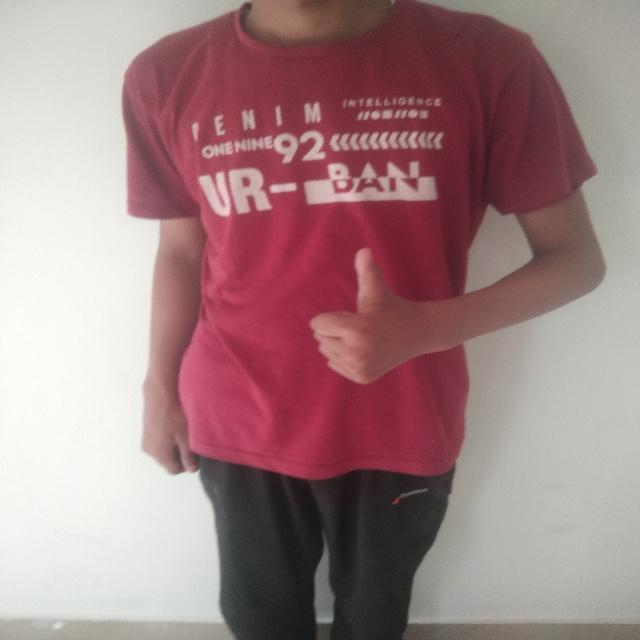Thumbs Up: (305, 242, 436, 389)
